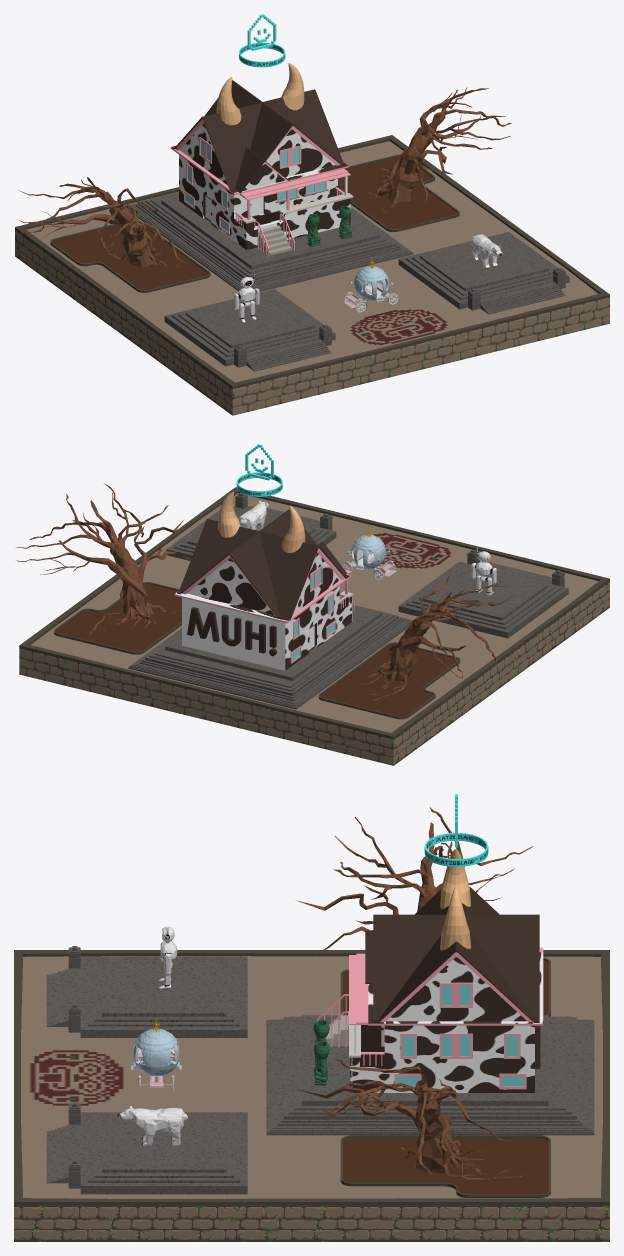
3 views of the same model, one above another, from view 1: azimuth 30°, elevation 25°; view 2: azimuth 150°, elevation 25°; view 3: azimuth 270°, elevation 25° (orthographic). The views are drawn at different scales.
Visible parts, largest first — view 1: Cube.011, Cube.1242, VEHICLES_FANTASY_CARRIAGE, TYPE_PREMIUM, OBJRANDOM_PLATZEEBOT, ANIMAL_OSO_POLAR; view 2: Cube.011, Cube.1242, VEHICLES_FANTASY_CARRIAGE, TYPE_PREMIUM, OBJRANDOM_PLATZEEBOT, ANIMAL_OSO_POLAR; view 3: Cube.011, Cube.1242, VEHICLES_FANTASY_CARRIAGE, ANIMAL_OSO_POLAR, TYPE_PREMIUM, OBJRANDOM_PLATZEEBOT.
Boxes of the visible parts, left/top/right/bottom form: Cube.011: left=15, top=87, right=609, bottom=415; Cube.1242: left=170, top=63, right=353, bottom=256; VEHICLES_FANTASY_CARRIAGE: left=343, top=257, right=398, bottom=312; TYPE_PREMIUM: left=239, top=14, right=285, bottom=67; OBJRANDOM_PLATZEEBOT: left=234, top=272, right=259, bottom=322; ANIMAL_OSO_POLAR: left=471, top=234, right=502, bottom=268; Cube.011: left=16, top=483, right=609, bottom=765; Cube.1242: left=174, top=492, right=354, bottom=670; VEHICLES_FANTASY_CARRIAGE: left=342, top=526, right=396, bottom=580; TYPE_PREMIUM: left=236, top=444, right=282, bottom=496; OBJRANDOM_PLATZEEBOT: left=471, top=547, right=496, bottom=595; ANIMAL_OSO_POLAR: left=238, top=500, right=268, bottom=530; Cube.011: left=14, top=807, right=609, bottom=1241; Cube.1242: left=317, top=849, right=543, bottom=1092; VEHICLES_FANTASY_CARRIAGE: left=131, top=1017, right=181, bottom=1091; ANIMAL_OSO_POLAR: left=117, top=1106, right=187, bottom=1145; TYPE_PREMIUM: left=424, top=794, right=488, bottom=866; OBJRANDOM_PLATZEEBOT: left=159, top=926, right=177, bottom=988.
Bounding box in the file's own units: 5099 × 2444 × 4000.
37 materials, 6 textured.
